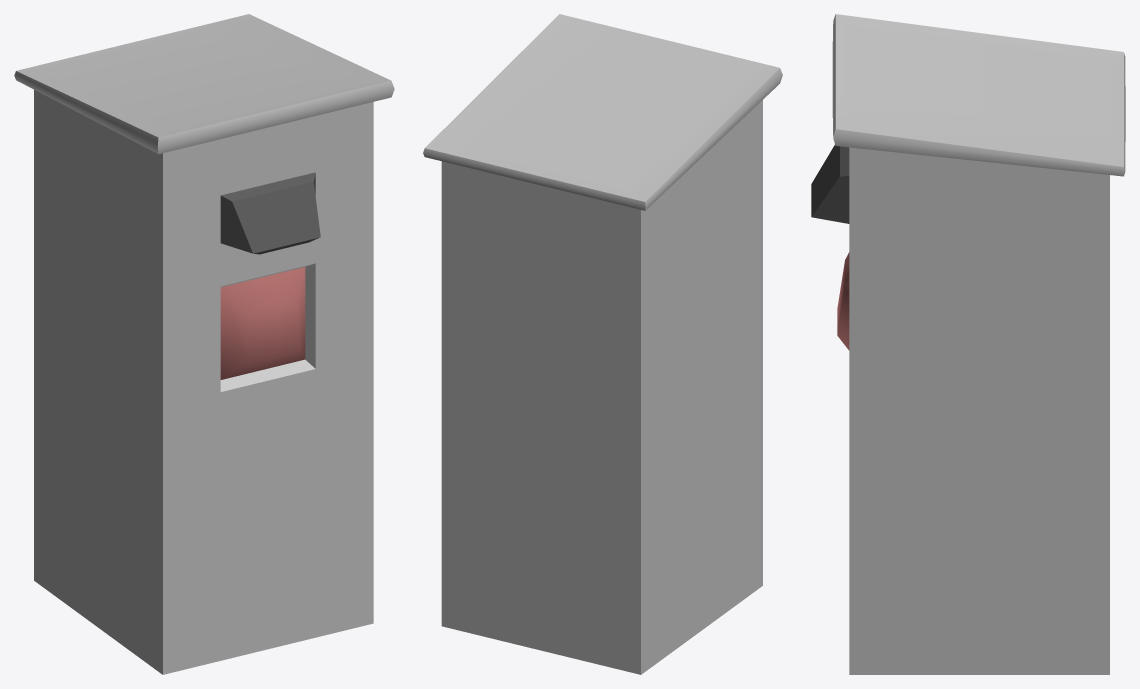
The model's file is ART-MOD-A-TICKET-001.FBX.
3 views of the same model, side by side, from view 1: azimuth 30°, elevation 25°; view 2: azimuth 150°, elevation 25°; view 3: azimuth 270°, elevation 25° (orthographic). The views are drawn at different scales.
Parts seen in each view (by area): view 1: Box003; view 2: Box003; view 3: Box003.
Part boxes in pixels (bbox=[...]): Box003: bbox=[14, 14, 394, 674]; Box003: bbox=[423, 14, 782, 674]; Box003: bbox=[811, 14, 1125, 674].
Bounding box in the file's own units: 64.4 × 142 × 73.09.
